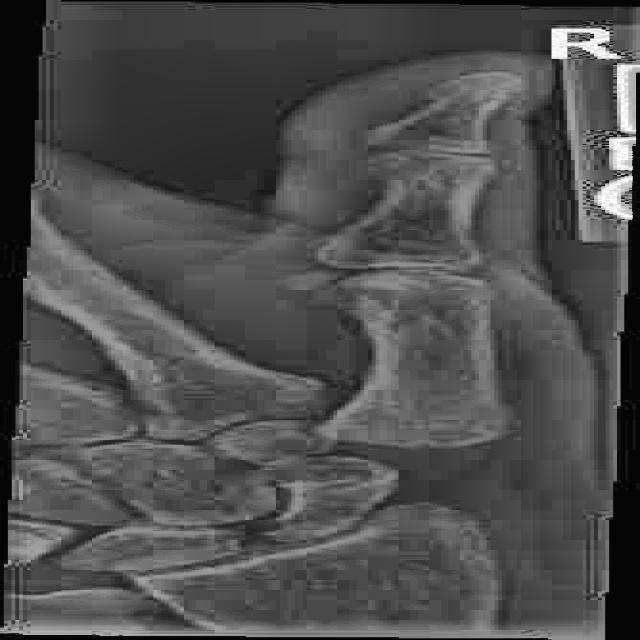fingers positive: (242, 248, 532, 349), (311, 131, 529, 213)
